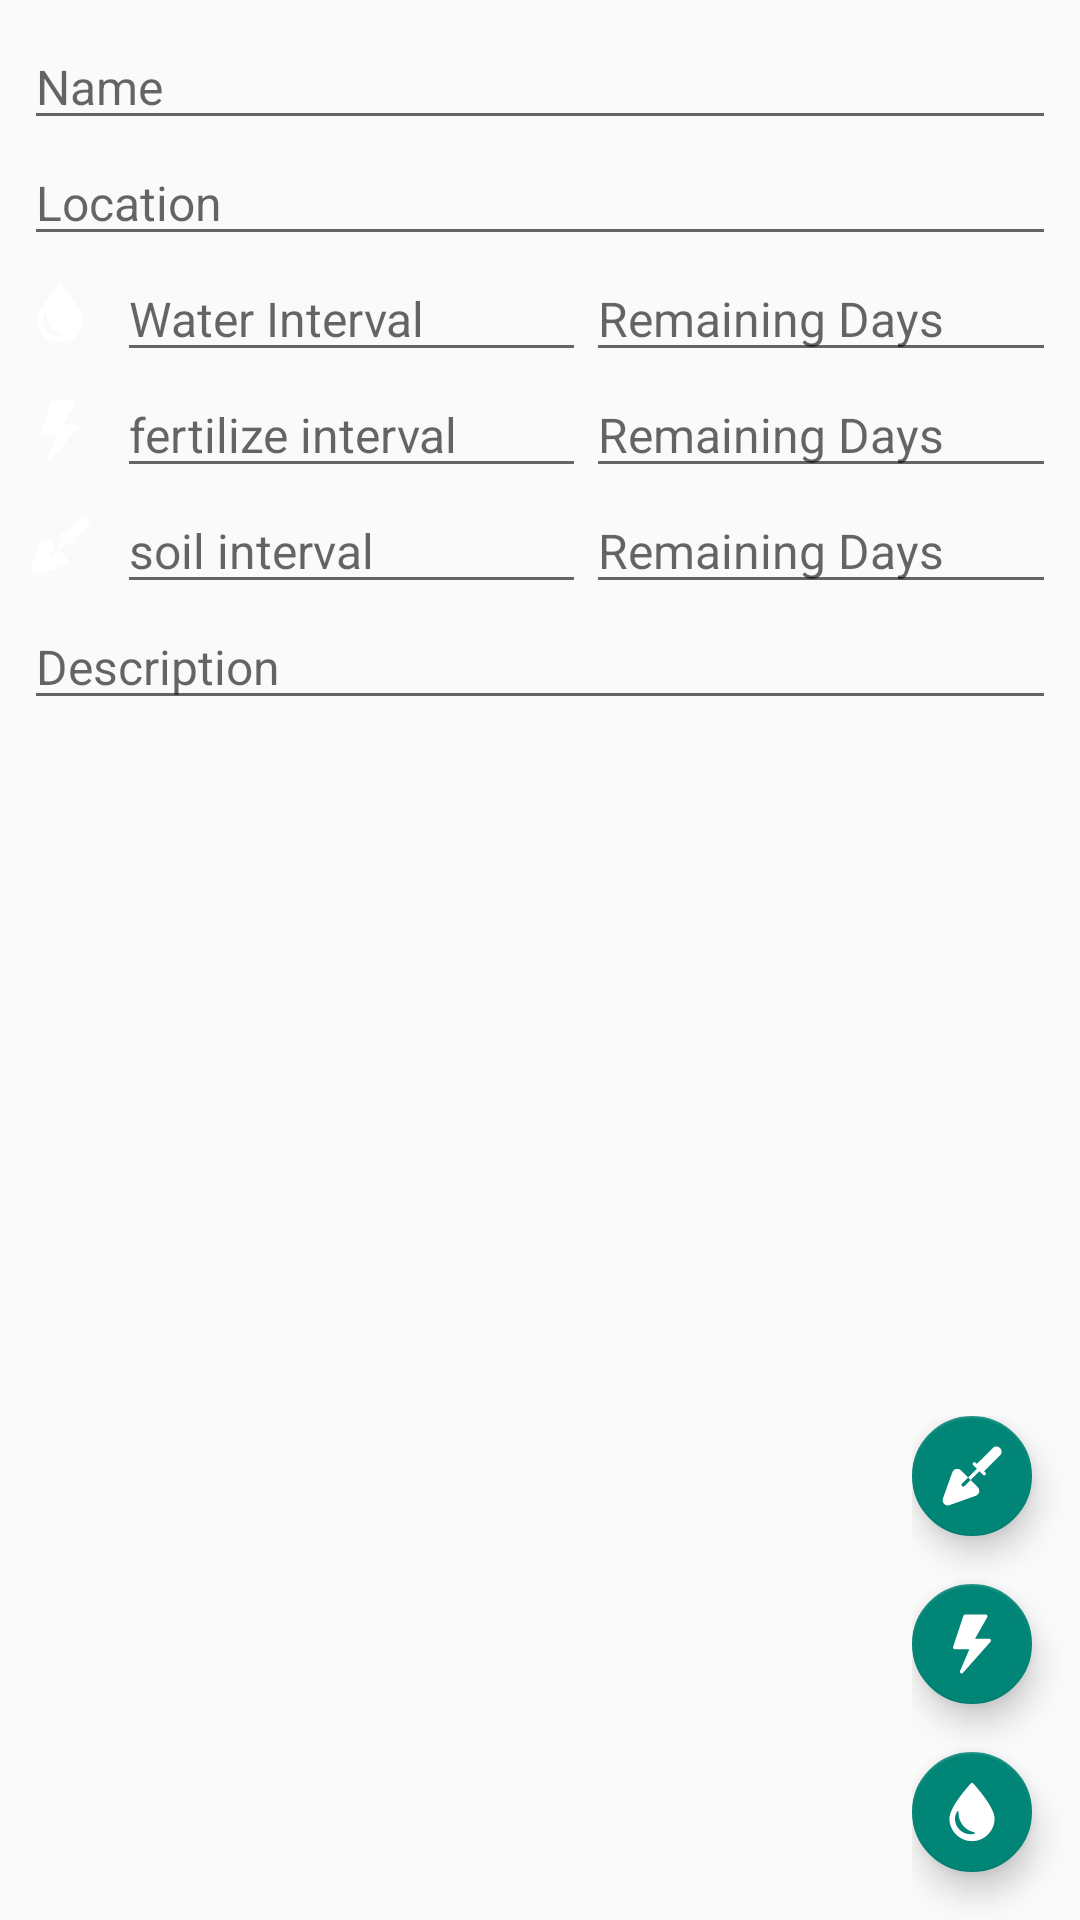

Icons on this 1080px×1920px Android screen, each with its box as [x1, y1, x2, y2]:
drop: [912, 1752, 1032, 1872]
flash: [912, 1584, 1032, 1704]
shovel: [912, 1416, 1032, 1536]
